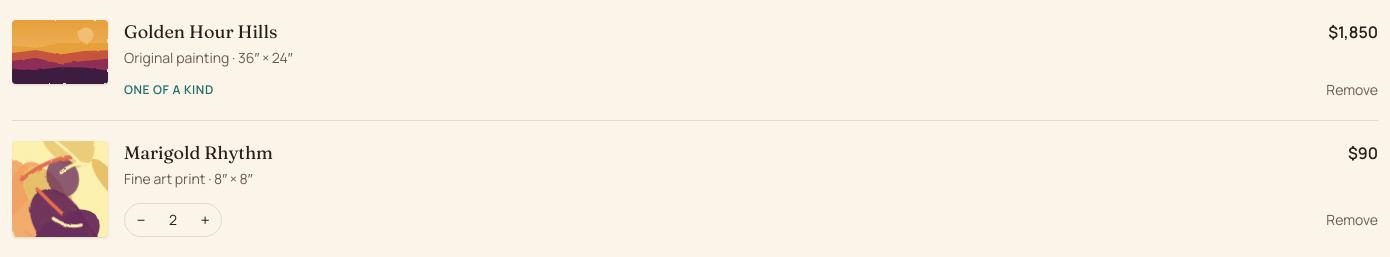
it: CartLines › changes print quantities and drops a print at zero
Click the button "+".
click(205, 220)  # box [189,204,221,236]
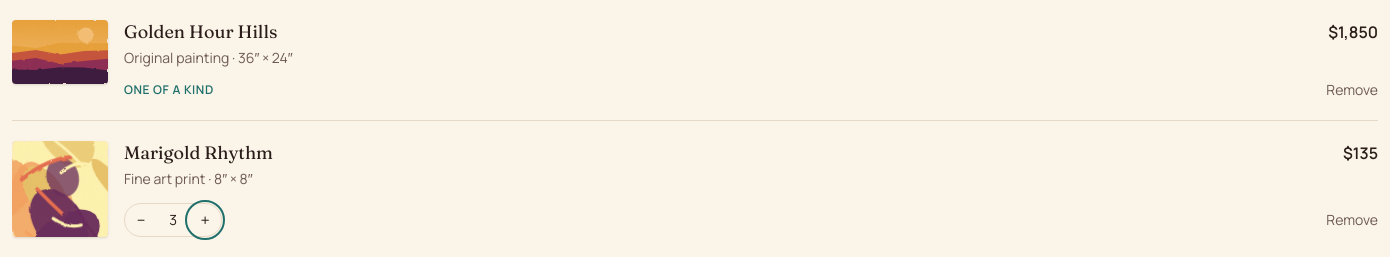
Result: the text "3" is shown at [169,210,177,229]
Result: the text "$135" is shown at [1343,142,1378,164]
Click the button "−".
click(141, 220)  # box [125,204,157,236]
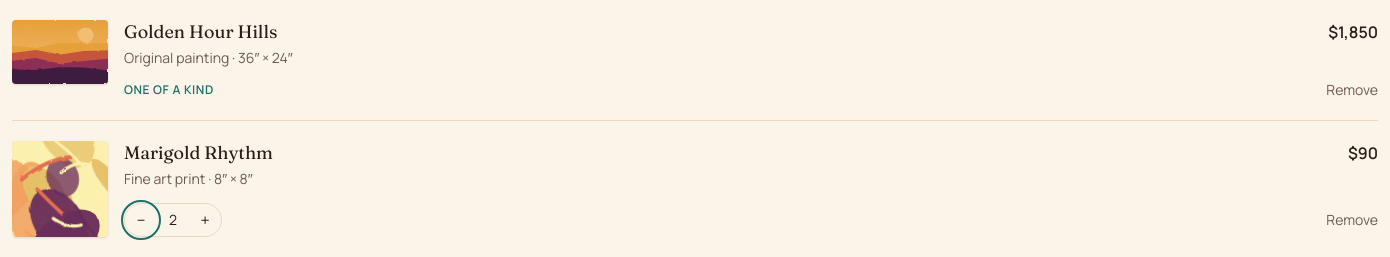
Click the button "−".
click(141, 220)  # box [125,204,157,236]
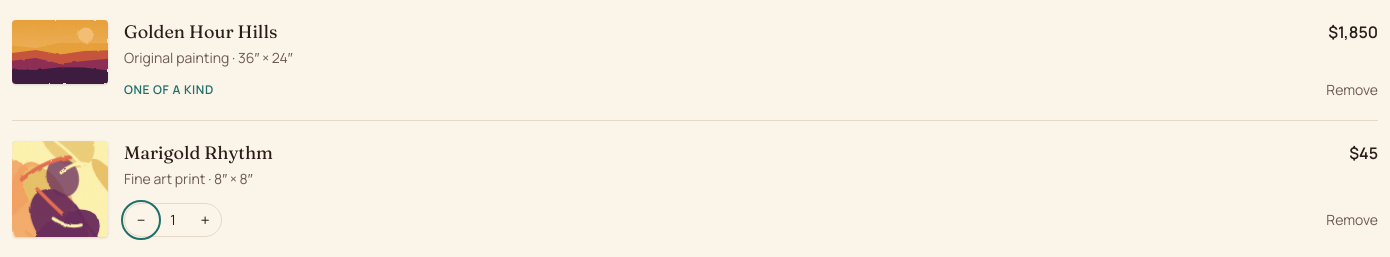
Result: the text "$45" is shown at [1349,142,1378,164]
Click the button "−".
click(141, 220)  # box [125,204,157,236]
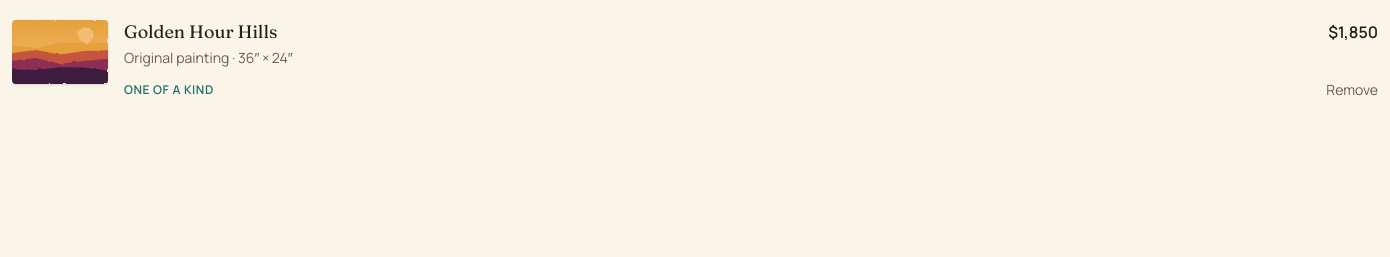
Result: the number of list items is 1 at [12,0,1378,120]
